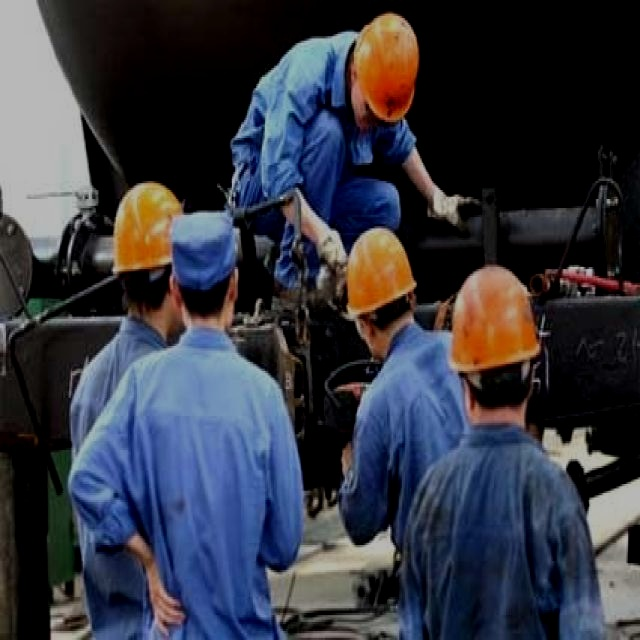Con_Casco: (454, 265, 537, 431), (342, 226, 421, 356)
Sin_Casco_Mascarrilla: (170, 213, 244, 335)
